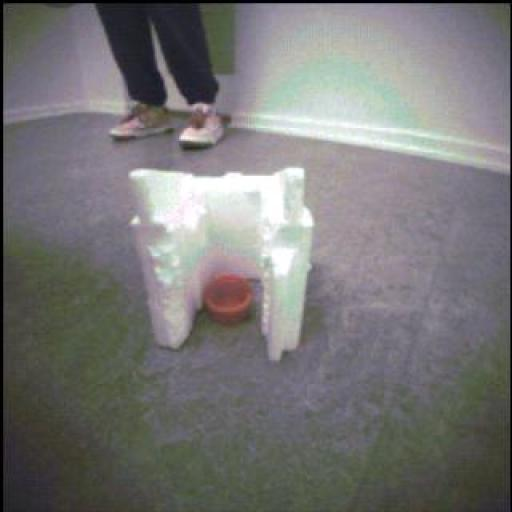Bucket: (201, 272, 255, 327)
